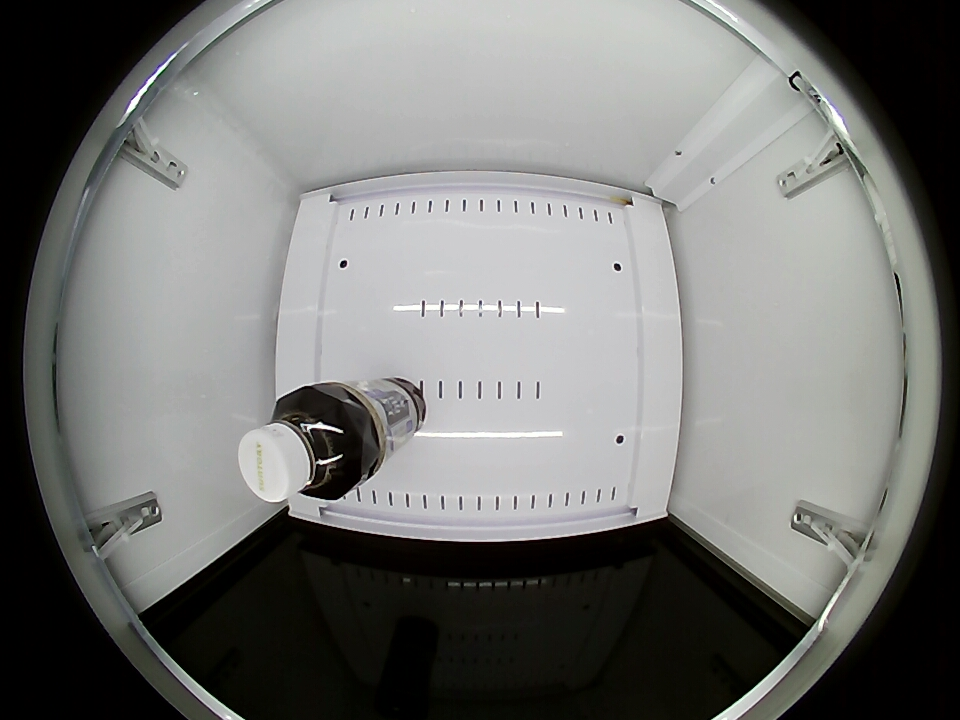wulongcha: (238, 386, 366, 503)
